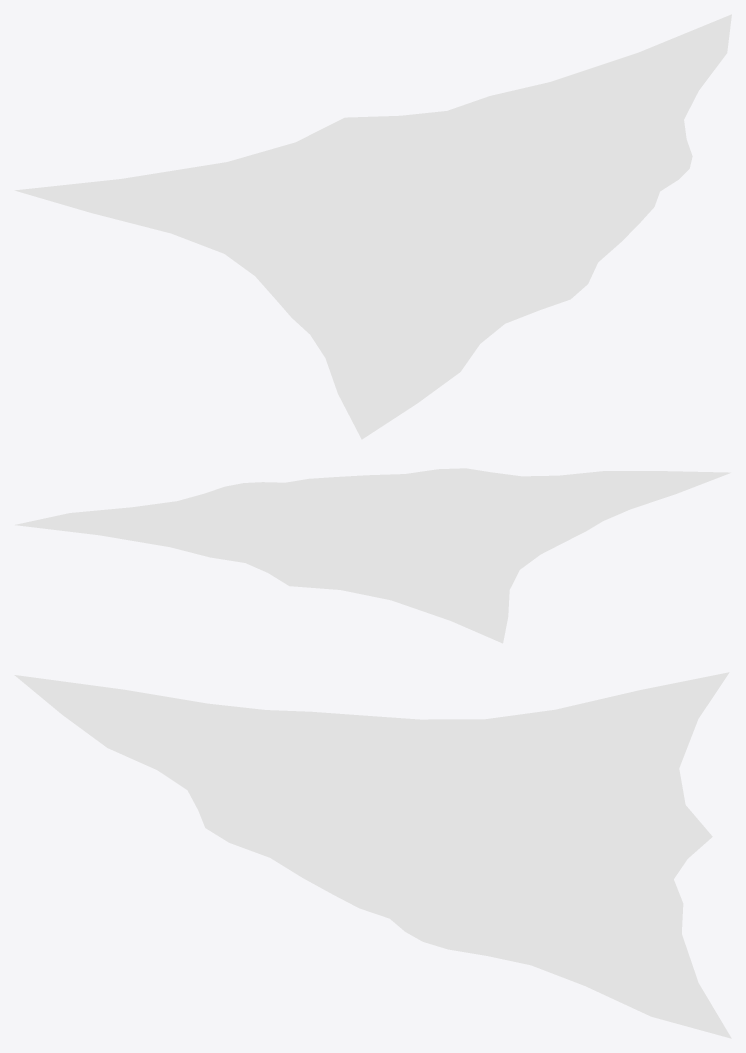
File: pautina.fbx
3 renders of one model, top to bottom at view 1: azimuth 30°, elevation 25°; view 2: azimuth 150°, elevation 25°; view 3: azimuth 270°, elevation 25°, orthographic. The views are drawn at different scales.
Parts seen in each view (by area): view 1: pPlane1; view 2: pPlane1; view 3: pPlane1.
Part boxes in pixels (box(x1,y1,x2,y2)): pPlane1: box(14, 14, 731, 439); pPlane1: box(15, 468, 730, 643); pPlane1: box(14, 672, 731, 1038).
Size of the model in its own units: 12.09 by 1.33e-14 by 10.01.
